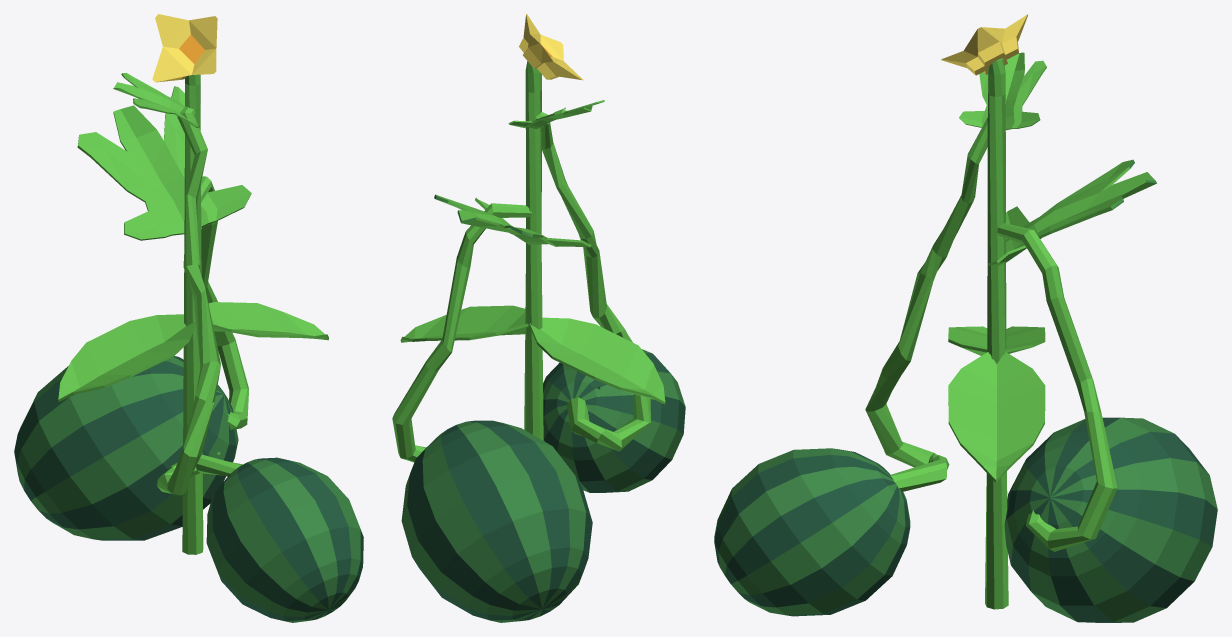
Rendered from watermelon_flowering.fbx.
The picture shows the model from 3 angles, left to right: view 1: azimuth 30°, elevation 25°; view 2: azimuth 150°, elevation 25°; view 3: azimuth 270°, elevation 25°; orthographic projection. The views are drawn at different scales.
Visible parts, largest first — view 1: watermelon_flowering; view 2: watermelon_flowering; view 3: watermelon_flowering.
Part boxes in pixels (x1,y1,x2,y2): watermelon_flowering: [14, 14, 363, 622]; watermelon_flowering: [392, 14, 685, 622]; watermelon_flowering: [714, 14, 1217, 622].
Size of the model in its own units: 56.14 by 110 by 83.01.
